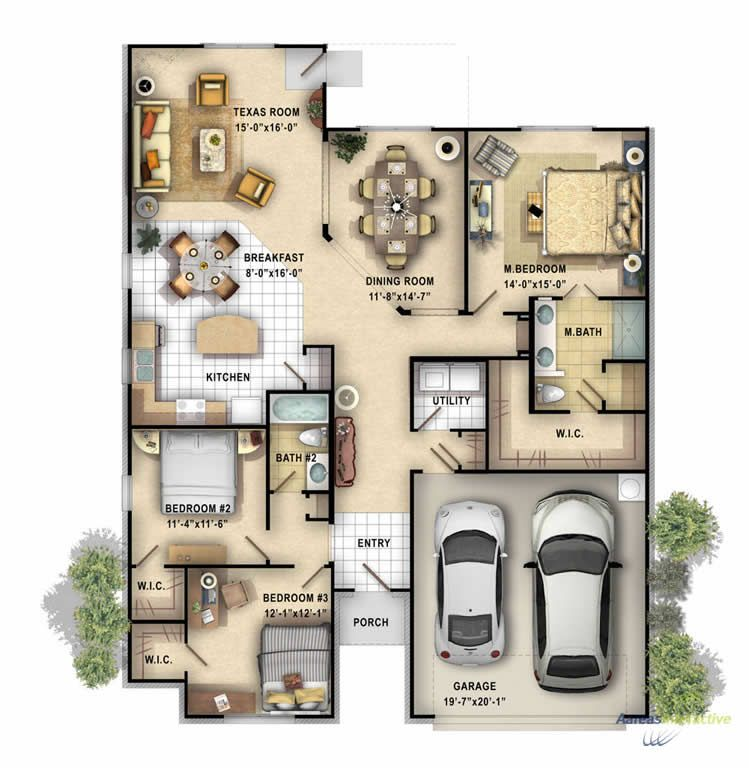wall: (646, 128, 650, 717), (410, 467, 414, 717), (464, 126, 469, 313), (328, 344, 333, 522), (127, 43, 131, 252), (456, 470, 649, 474), (529, 295, 535, 414), (265, 392, 270, 530), (127, 511, 131, 683), (330, 562, 334, 717), (128, 425, 258, 429), (161, 562, 291, 566), (410, 355, 529, 359), (409, 356, 414, 430), (127, 384, 131, 475), (486, 357, 489, 473), (127, 288, 132, 349), (127, 44, 203, 48), (322, 81, 327, 139), (266, 389, 332, 393), (432, 127, 519, 130), (127, 619, 186, 623), (127, 679, 184, 683), (529, 408, 571, 413), (274, 44, 326, 48), (600, 295, 647, 299), (601, 409, 648, 413), (602, 358, 649, 362), (183, 672, 187, 717), (592, 127, 649, 130), (183, 715, 222, 719), (323, 127, 361, 131), (450, 427, 486, 431), (302, 490, 332, 494), (303, 517, 333, 521), (502, 310, 532, 314), (411, 714, 435, 718), (332, 588, 354, 592), (409, 468, 424, 473)
